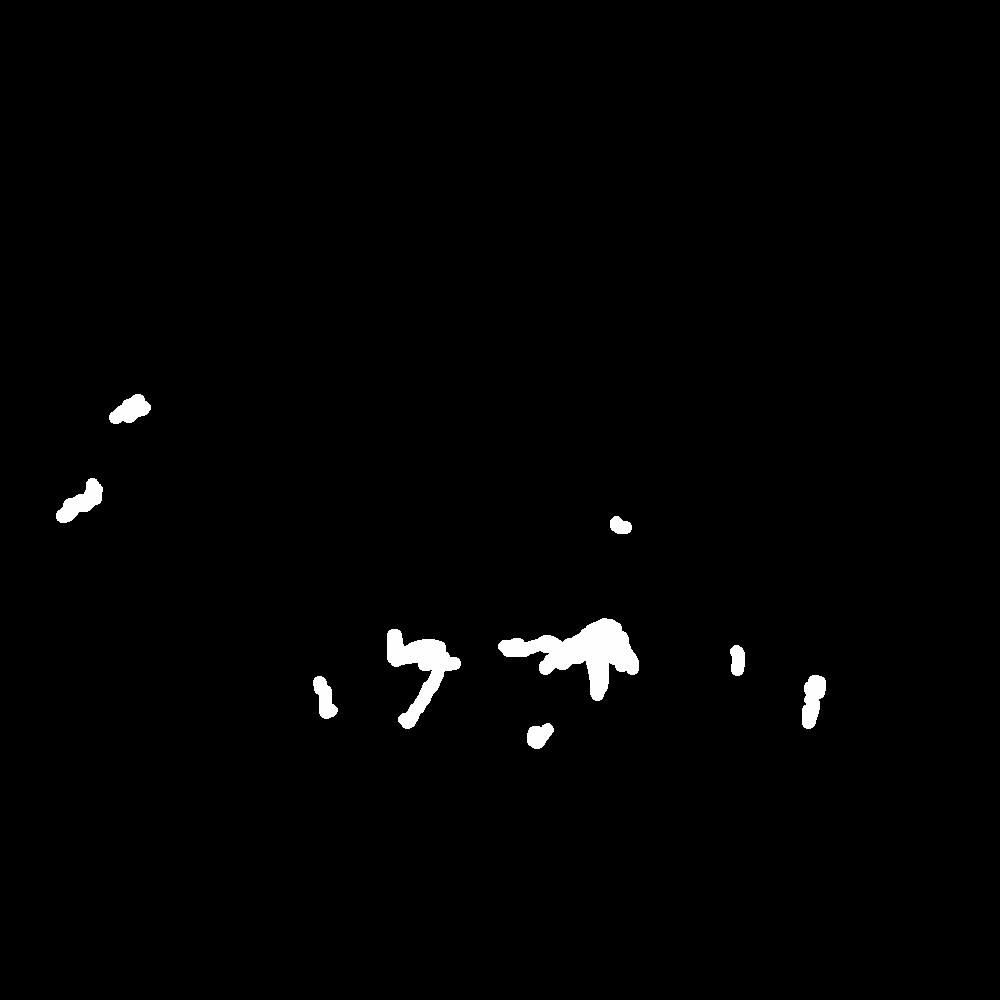illegal: (301, 616, 647, 747), (58, 478, 105, 520), (794, 671, 827, 719), (116, 397, 148, 423), (608, 517, 641, 533)
